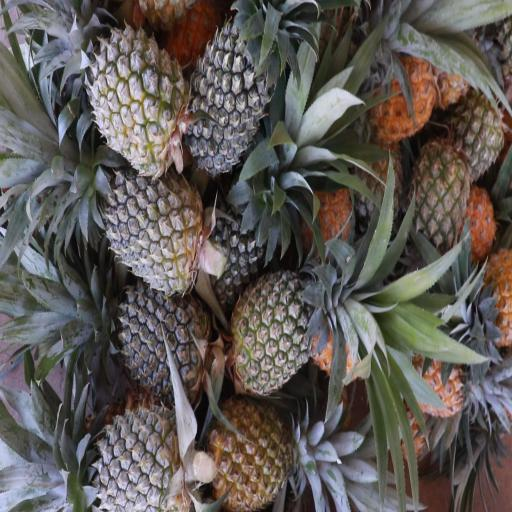------------------------------: (97, 22, 185, 174), (234, 271, 332, 391), (208, 401, 300, 512), (409, 144, 473, 248)
Pineapple - v8 v1: (375, 54, 440, 138)
